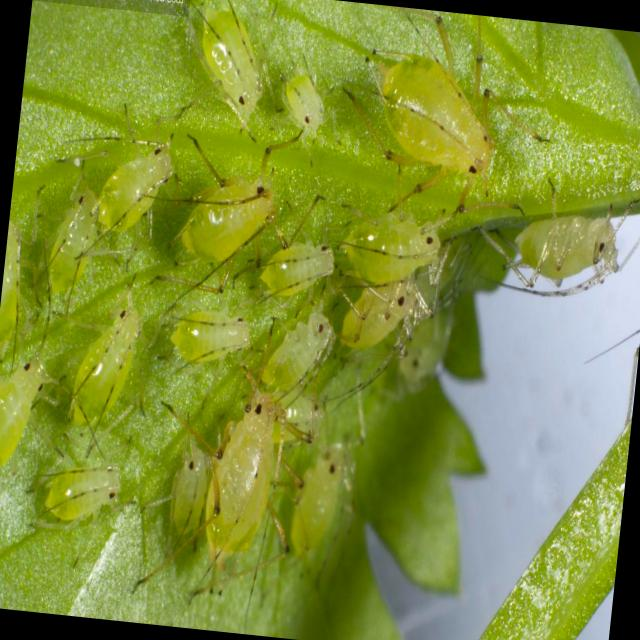Aphids: (352, 18, 522, 210), (474, 170, 640, 317), (190, 372, 305, 580), (162, 135, 316, 286), (50, 281, 151, 459), (318, 258, 430, 416), (79, 122, 200, 260), (178, 0, 286, 126), (246, 285, 342, 419), (18, 442, 135, 544), (328, 200, 454, 294), (32, 176, 105, 327), (155, 284, 258, 386), (150, 422, 213, 562), (246, 223, 341, 307), (268, 51, 341, 146)
